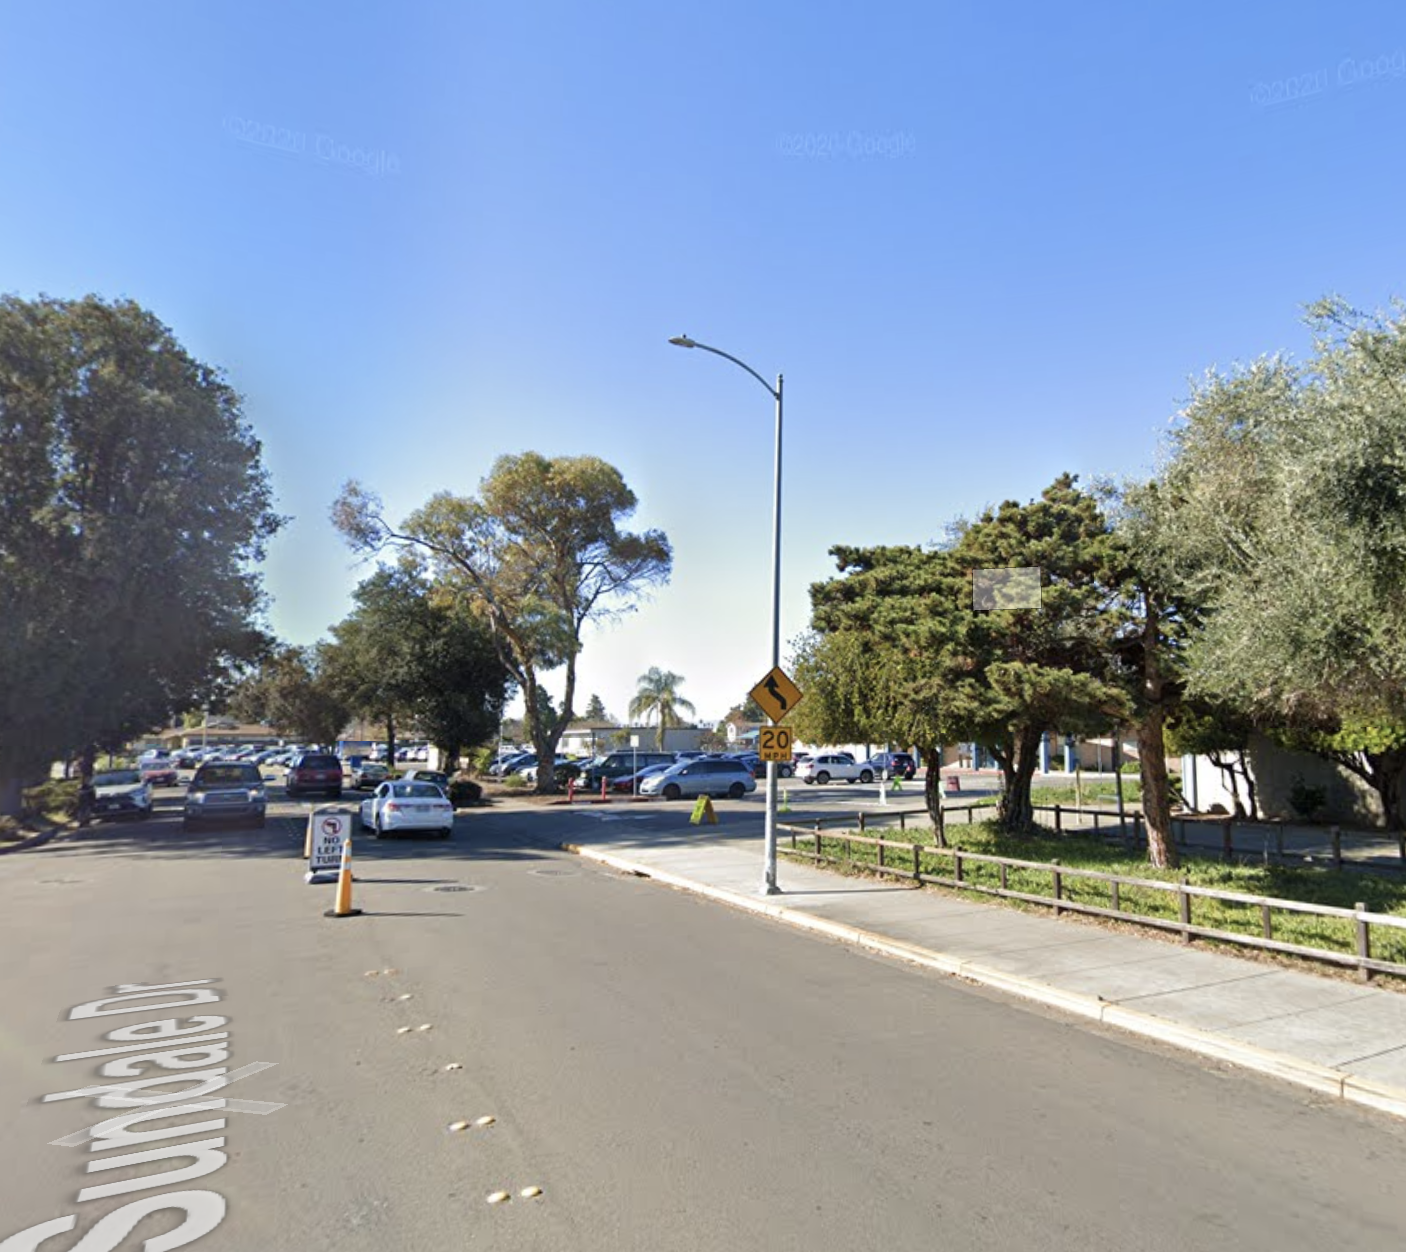pole: (648, 315, 821, 508)
